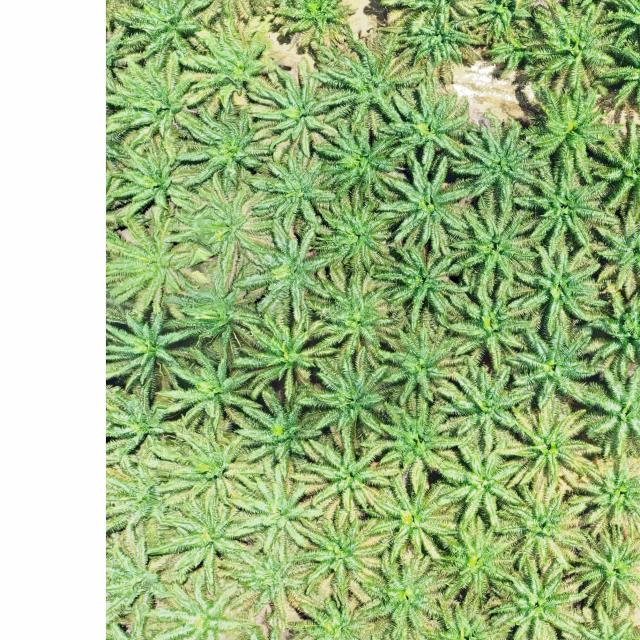Tree: (139, 490, 265, 593), (508, 150, 624, 261), (355, 392, 472, 492), (504, 240, 610, 348), (524, 79, 628, 188), (512, 0, 624, 101), (230, 222, 343, 322), (220, 465, 332, 562), (107, 211, 211, 314), (106, 45, 198, 159), (371, 0, 492, 86), (502, 317, 607, 416), (375, 150, 473, 256), (378, 74, 478, 176), (243, 64, 347, 162), (431, 278, 533, 377), (156, 342, 265, 434), (448, 112, 548, 212), (442, 189, 543, 288), (361, 467, 462, 565), (290, 431, 394, 524), (499, 402, 603, 493), (482, 554, 592, 640), (161, 417, 264, 507), (438, 350, 538, 442), (298, 507, 395, 601), (232, 309, 332, 400), (432, 515, 524, 610), (361, 545, 456, 636), (106, 299, 197, 393), (373, 313, 462, 409), (109, 0, 220, 75), (228, 386, 328, 469), (307, 188, 397, 278), (321, 120, 408, 211), (371, 238, 461, 324), (435, 439, 521, 526), (563, 446, 640, 538), (254, 150, 338, 234), (498, 482, 582, 566), (304, 356, 392, 436), (575, 357, 640, 460), (311, 279, 392, 358), (581, 116, 640, 224), (566, 526, 640, 612), (584, 275, 640, 367), (585, 206, 640, 294)
